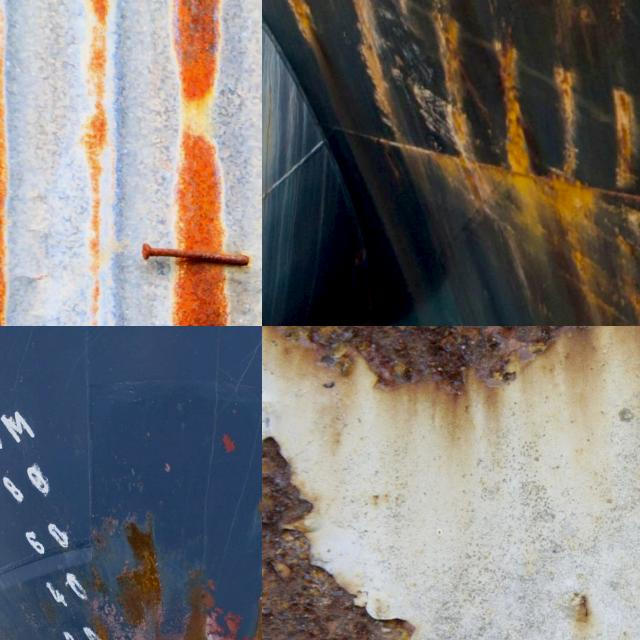Pitting Corrosion: (262, 439, 408, 640)
Uniform Corrosion: (404, 146, 640, 326), (0, 528, 262, 640), (142, 0, 227, 257), (80, 0, 108, 326), (431, 0, 479, 159), (353, 0, 401, 138), (494, 40, 532, 172), (553, 67, 577, 179), (613, 89, 635, 187), (287, 0, 318, 54)
